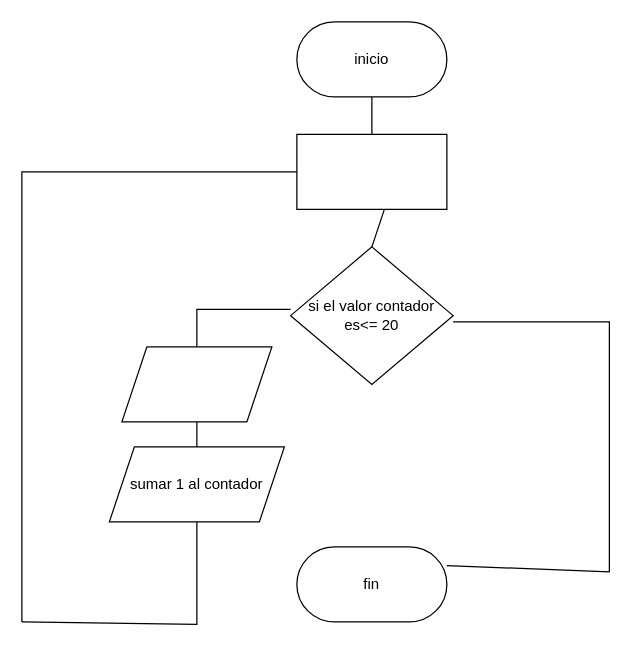
Some shapes in this 633 by 648 pixel diagram are drawn without their labels. The centre of each missing label's shape, as x and y in pixels:
"contador valor =0" goes at [371,171].
"mostrar valor" goes at [196,384].
